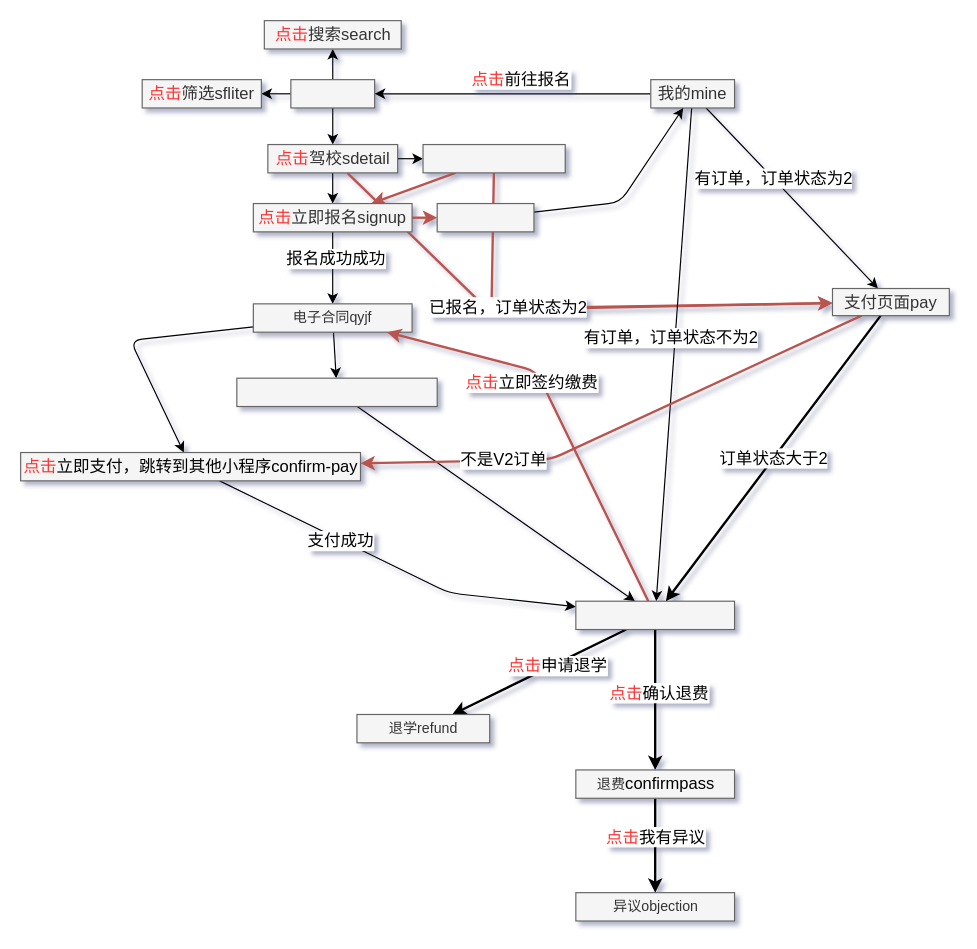
This 977x949 diagram has some shape labels left out. Here are the shapes that lost their labels. From the top down, the centre of each, then its label:
At (x=332, y=93): "首页index".
At (x=493, y=158): "点击 班型classtype".
At (x=485, y=217): "报名失败".
At (x=336, y=392): "订单状态大于2，跳转".
At (x=655, y=615): "订单详情 orderdetail".
